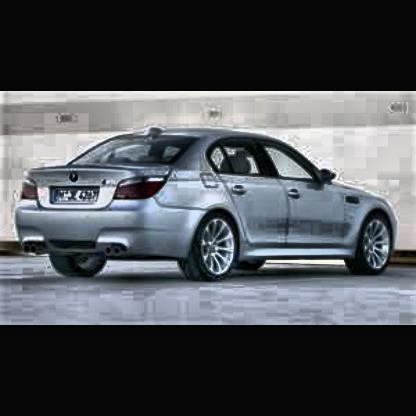BMW M5 Sedan 2010: (17, 128, 402, 286)
